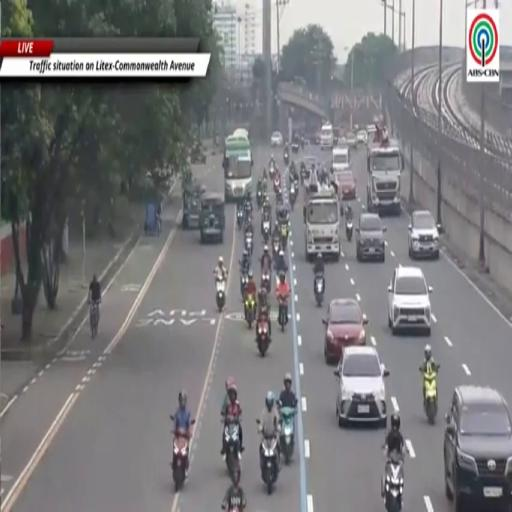bus: (224, 136, 253, 202)
car: (444, 386, 511, 511), (334, 346, 389, 427), (388, 267, 432, 335), (322, 298, 368, 363), (408, 211, 440, 259), (356, 213, 386, 262), (335, 170, 356, 200), (300, 156, 318, 186), (270, 131, 283, 147), (367, 124, 377, 143), (346, 133, 357, 148), (357, 131, 367, 145)
motorcycle: (383, 452, 404, 511), (420, 365, 439, 424), (261, 437, 279, 494), (172, 429, 188, 492), (224, 418, 241, 477), (280, 408, 296, 465), (257, 318, 269, 357), (278, 294, 288, 331), (245, 295, 255, 328), (216, 279, 226, 312), (315, 274, 324, 307), (240, 270, 248, 298), (245, 232, 253, 257), (280, 222, 288, 247), (262, 220, 270, 244), (290, 183, 297, 210), (262, 271, 270, 293), (345, 220, 353, 242), (237, 207, 244, 229), (273, 175, 281, 194), (222, 504, 242, 511), (273, 238, 279, 260), (300, 165, 306, 185), (256, 189, 262, 209), (269, 162, 275, 179), (276, 187, 282, 203), (284, 150, 290, 166), (292, 141, 299, 153), (301, 137, 305, 149)
truck: (367, 138, 404, 214), (304, 186, 340, 261), (320, 122, 333, 150)
